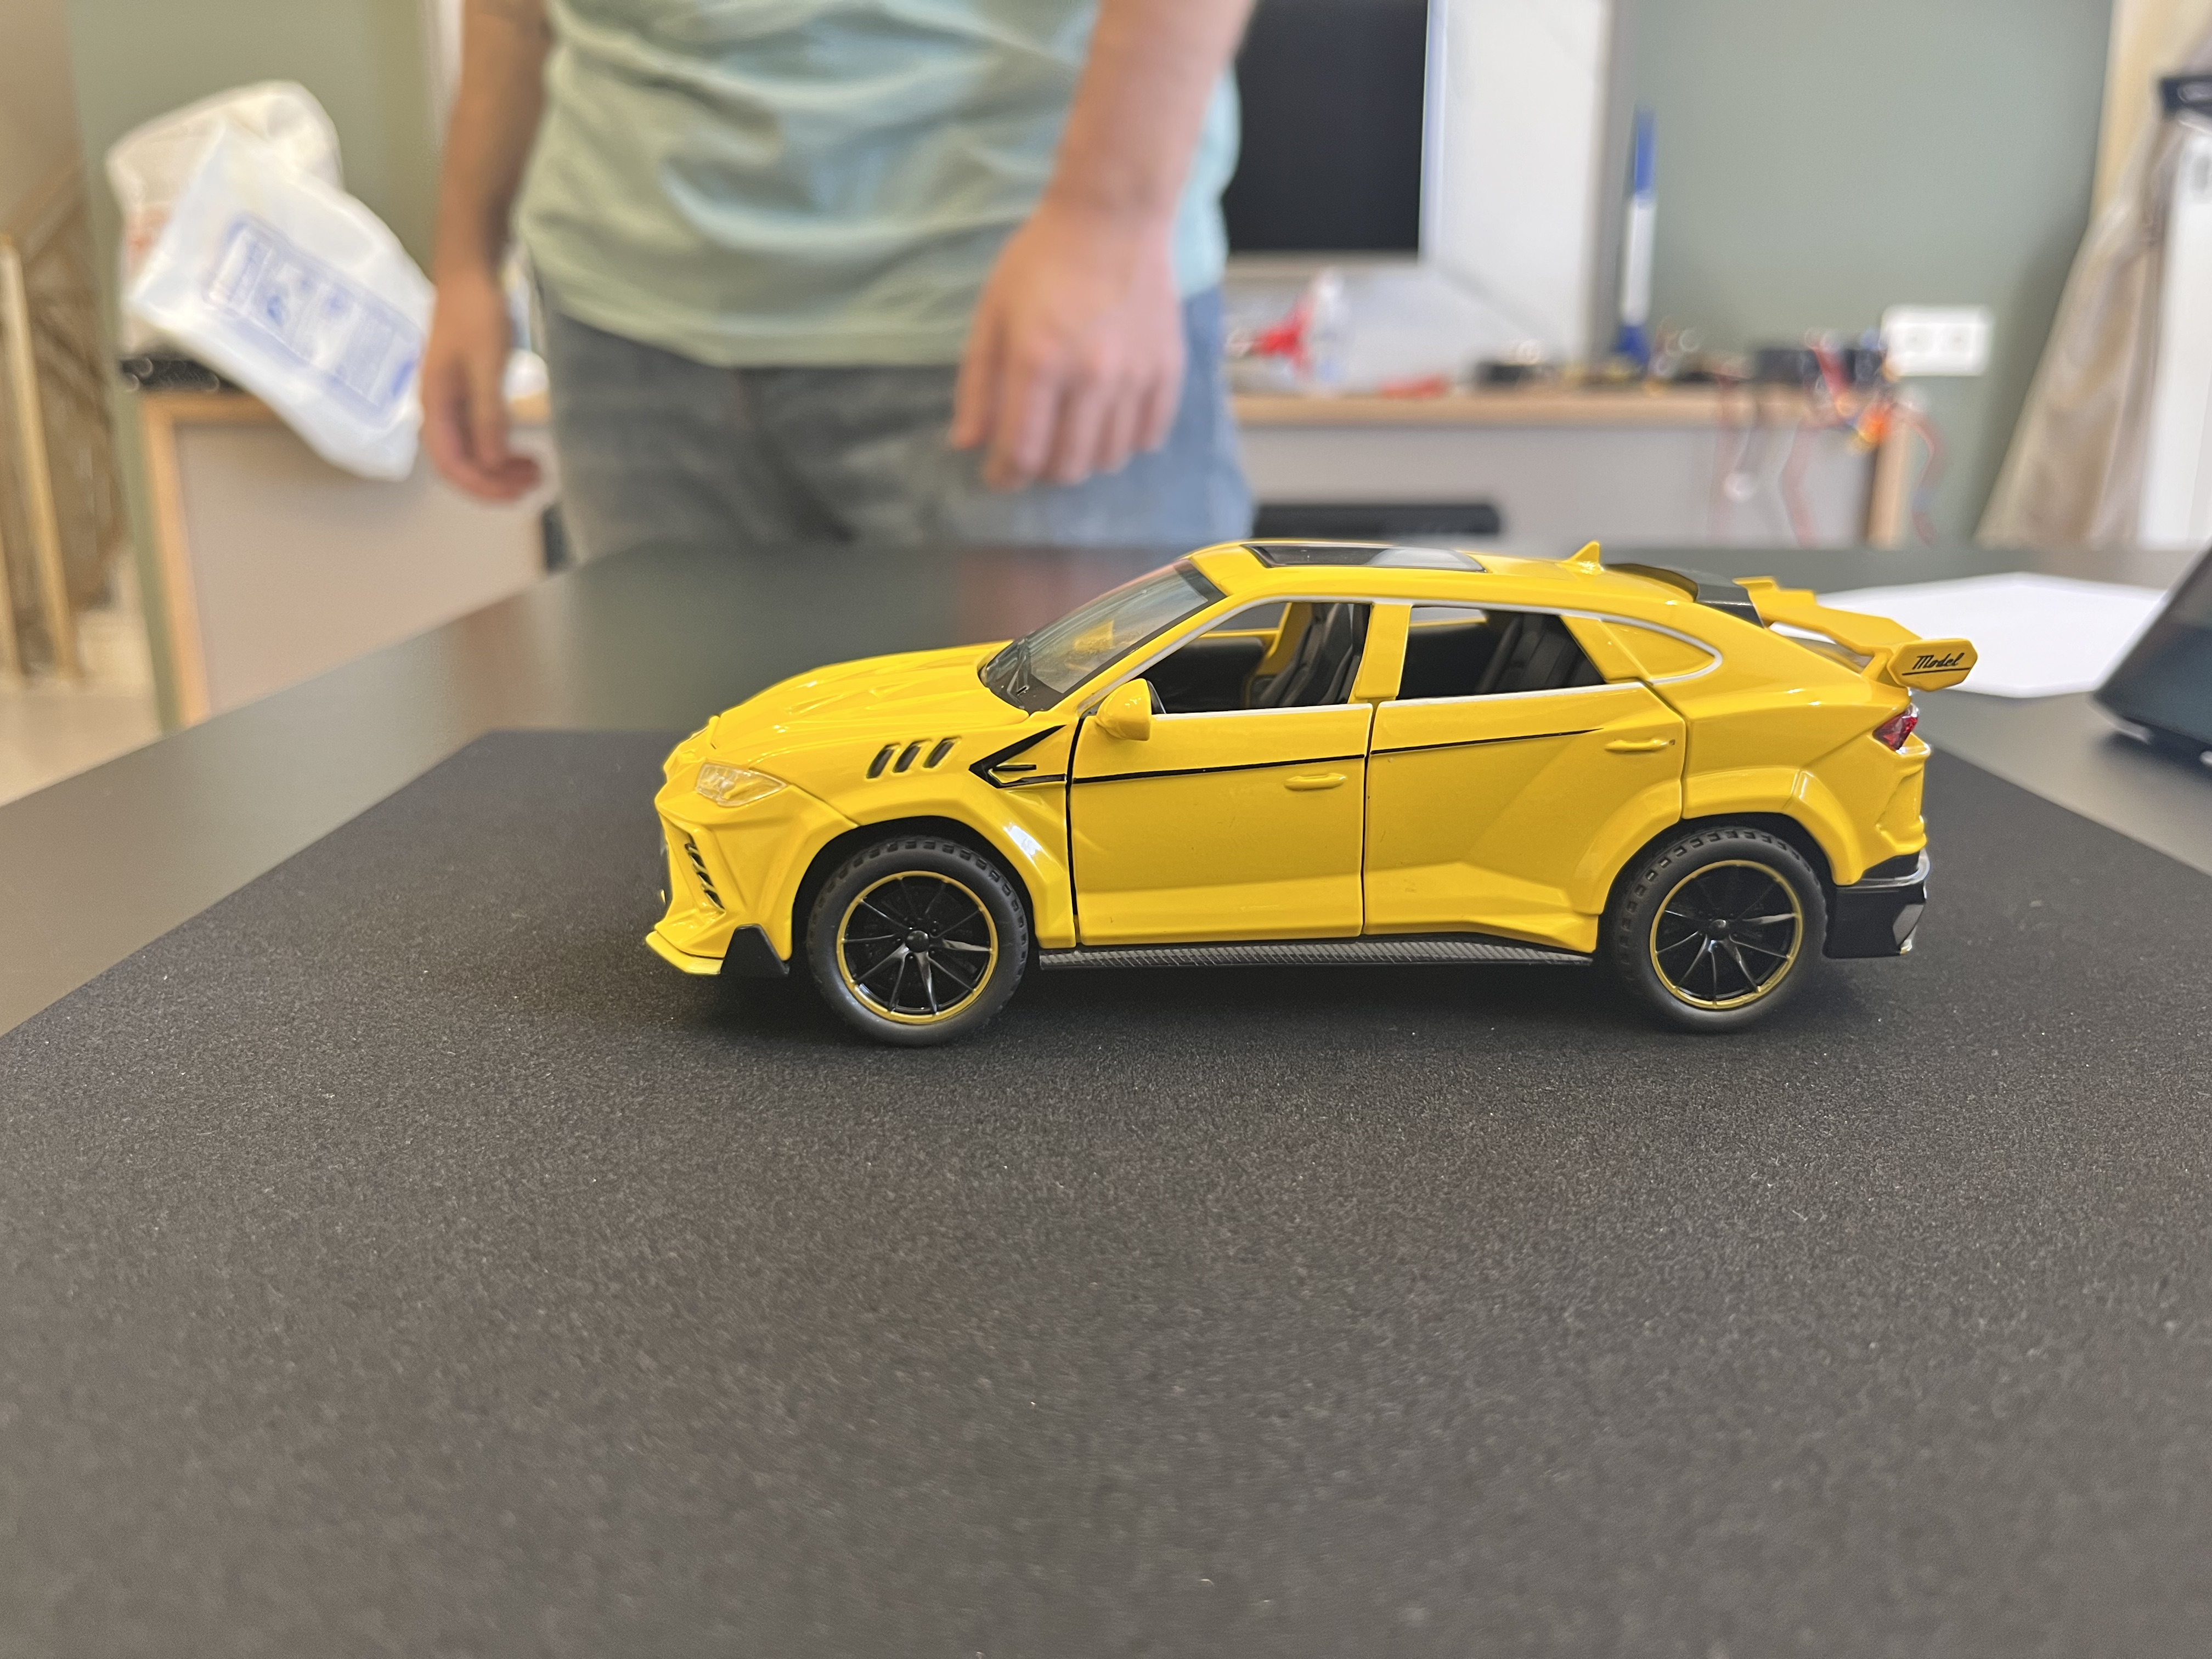lambo: (639, 535, 1973, 1042)
